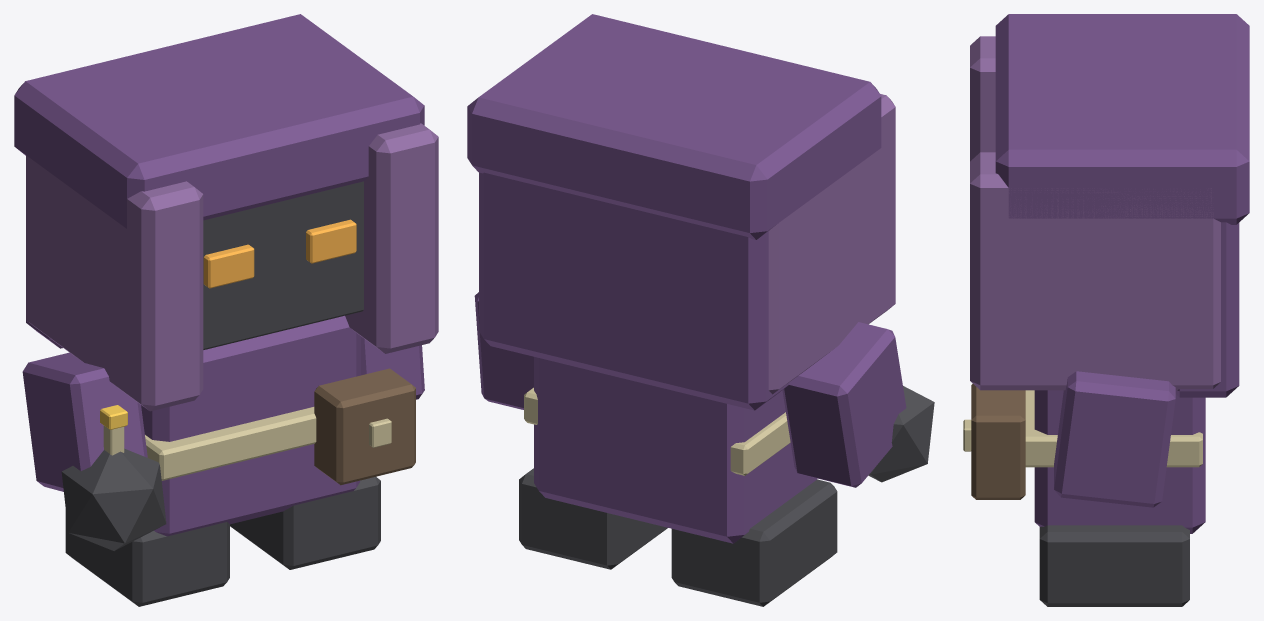
The model's file is EnemyBomber.fbx.
3 views of the same model, side by side, from view 1: azimuth 30°, elevation 25°; view 2: azimuth 150°, elevation 25°; view 3: azimuth 270°, elevation 25° (orthographic).
Visible parts, largest first — view 1: EnemyBomber, ThrowArmMesh, HeldBomb; view 2: EnemyBomber, ThrowArmMesh, HeldBomb; view 3: EnemyBomber.
Boxes of the visible parts, <box> form: EnemyBomber: <box>14,14,438,606</box>; ThrowArmMesh: <box>22,352,147,491</box>; HeldBomb: <box>61,405,166,550</box>; EnemyBomber: <box>467,14,895,606</box>; ThrowArmMesh: <box>782,322,906,487</box>; HeldBomb: <box>868,386,934,482</box>; EnemyBomber: <box>963,14,1249,606</box>.
Size of the model in its own units: 84.79 by 99.5 by 55.25.
